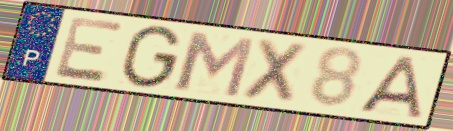8: (305, 45, 369, 112)
A: (356, 54, 423, 120)
E: (52, 14, 128, 85)
G: (117, 24, 185, 91)
M: (172, 28, 258, 100)
X: (237, 36, 313, 107)
